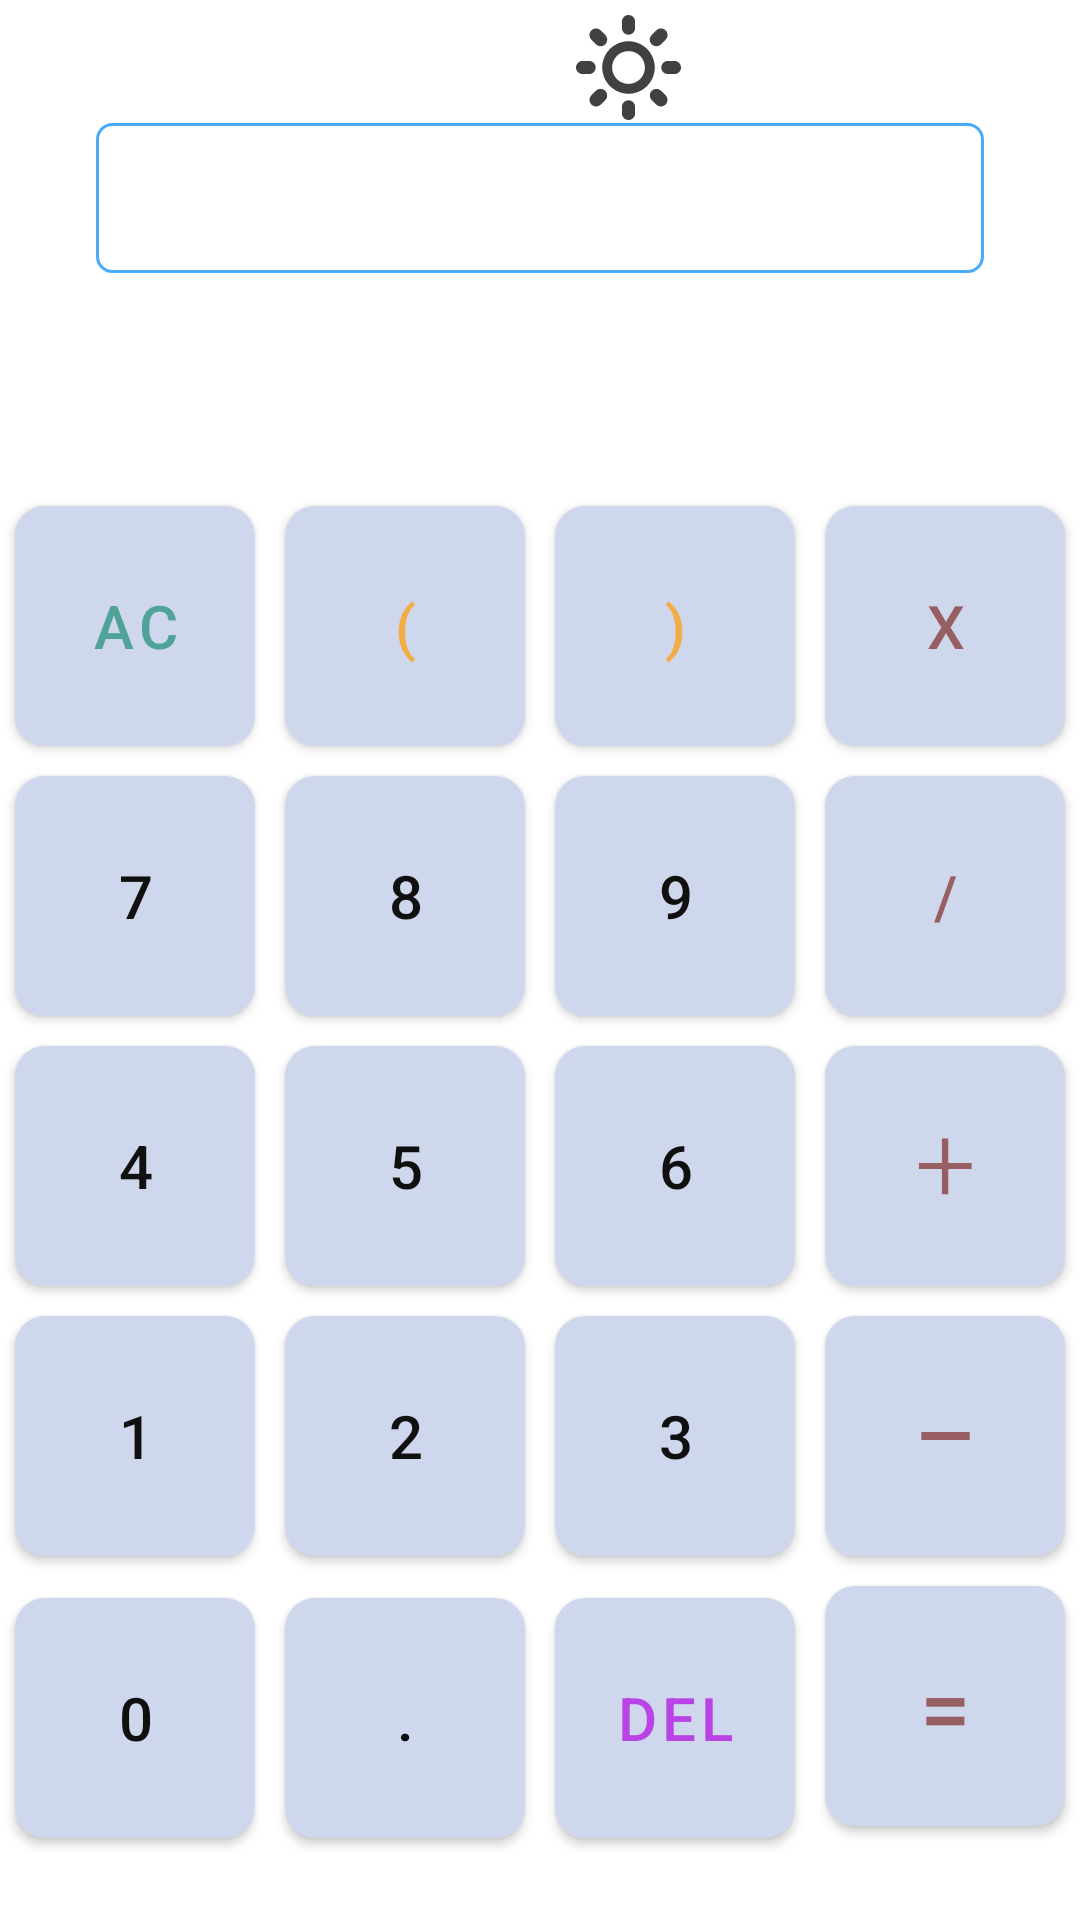

Icons on this 1080px×1920px Android screen, each with its box as box=[x1, y1, x2, y2]:
pluss: box=[825, 1046, 1065, 1286]
